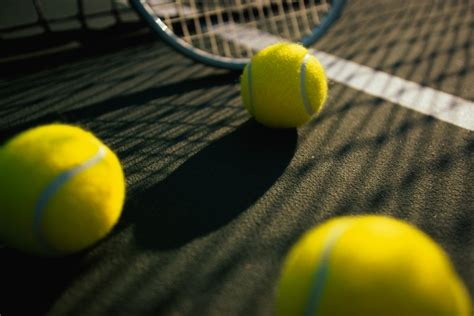tennis_ball: (276, 215, 473, 316), (1, 121, 126, 257), (240, 41, 328, 128)
